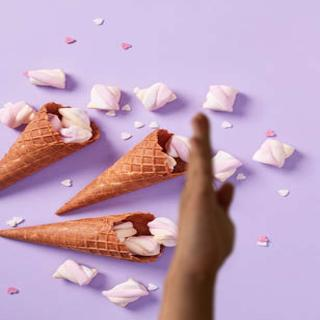RIGHT: (166, 108, 240, 275)
